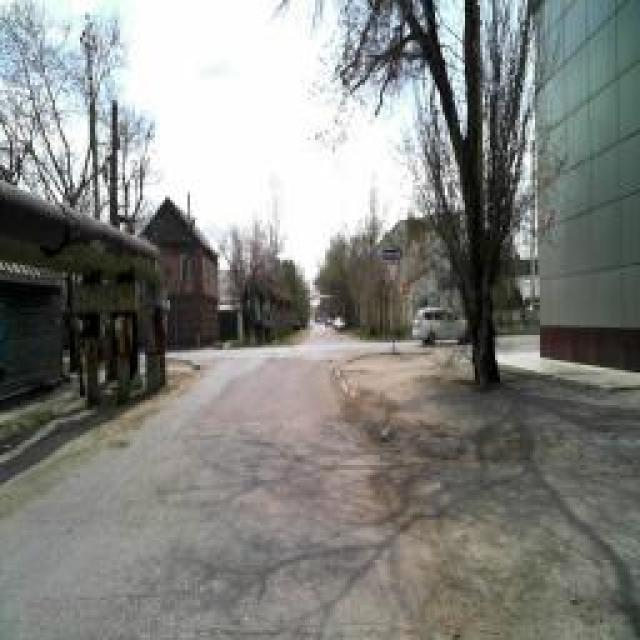sign: (382, 249, 402, 261)
